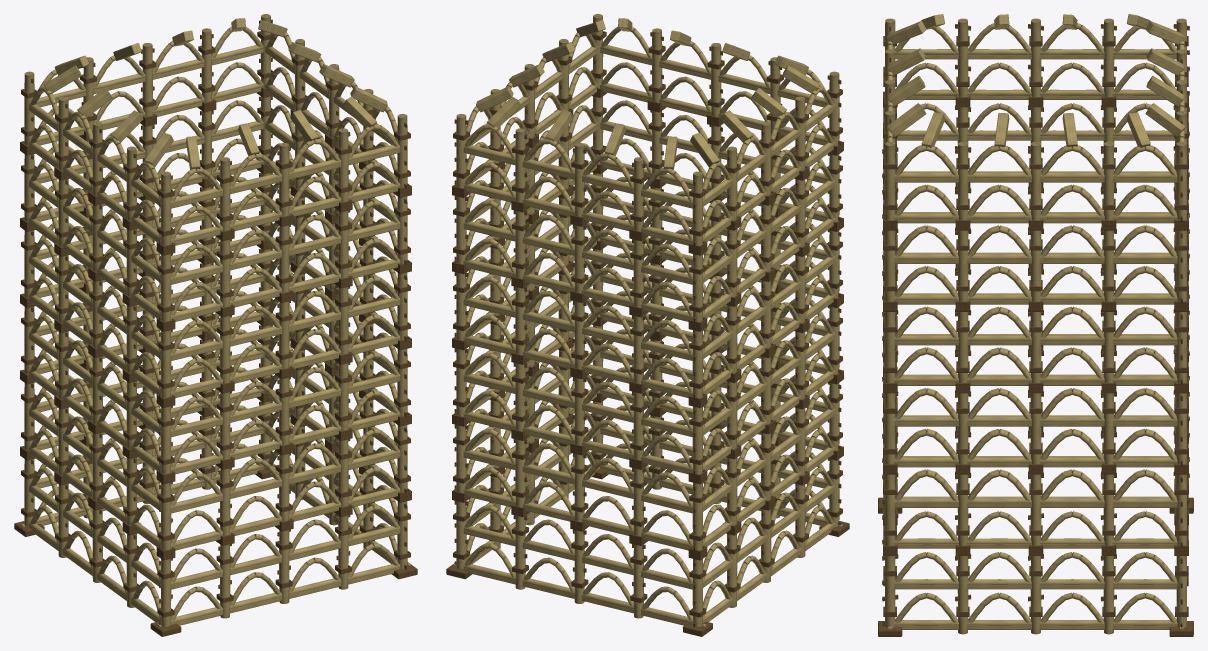
The picture shows the model from 3 angles, left to right: view 1: azimuth 30°, elevation 25°; view 2: azimuth 150°, elevation 25°; view 3: azimuth 270°, elevation 25°; orthographic projection. The views are drawn at different scales.
Parts seen in each view (by area): view 1: Tier 5 side 0 post 2, Tier 5 side 0 post 3, Tier 0 side 0 post 2, Tier 5 side 0 post 0, Tier 5 side 0 post 1, Tier 0 side 0 post 3, Tier 5 side 2 post 2, Tier 5 side 2 post 1, Tier 0 side 0 post 1, Tier 5 side 1 post 0, Tier 3 side 0 post 2, Tier 4 side 0 post 2 (+23 smaller); view 2: Tier 5 side 2 post 2, Tier 5 side 2 post 1, Tier 5 side 2 post 0, Tier 0 side 2 post 2, Tier 5 side 2 post 3, Tier 0 side 2 post 1, Tier 5 side 0 post 2, Tier 5 side 0 post 3, Tier 5 side 3 post 0, Tier 0 side 2 post 3, Tier 2 side 2 post 1, Tier 4 side 2 post 2 (+24 smaller); view 3: Tier 5 side 1 post 0, Tier 5 side 1 post 2, Tier 5 side 1 post 3, Tier 5 side 1 post 1, Tier 5 side 2 post 0, Tier 5 side 3 post 2, Tier 5 side 3 post 1, Tier 0 side 1 post 2, Tier 5 side 3 post 3, Tier 0 side 1 post 3, Tier 0 side 1 post 1, Tier 4 side 1 post 0 (+31 smaller).
Boxes of the visible parts, <box> form: Tier 5 side 0 post 2: <box>279,142,289,216</box>; Tier 5 side 0 post 3: <box>338,128,348,202</box>; Tier 0 side 0 post 2: <box>279,530,289,603</box>; Tier 5 side 0 post 0: <box>161,171,171,245</box>; Tier 5 side 0 post 1: <box>220,157,230,231</box>; Tier 0 side 0 post 3: <box>338,515,348,589</box>; Tier 5 side 2 post 2: <box>142,43,152,116</box>; Tier 5 side 2 post 1: <box>201,28,211,102</box>; Tier 0 side 0 post 1: <box>220,544,230,618</box>; Tier 5 side 1 post 0: <box>397,114,407,188</box>; Tier 3 side 0 post 2: <box>279,301,289,369</box>; Tier 4 side 0 post 2: <box>279,225,289,293</box>; Tier 5 side 2 post 2: <box>574,142,584,216</box>; Tier 5 side 2 post 1: <box>515,128,525,202</box>; Tier 5 side 2 post 0: <box>456,114,466,188</box>; Tier 0 side 2 post 2: <box>574,530,584,603</box>; Tier 5 side 2 post 3: <box>633,157,643,231</box>; Tier 0 side 2 post 1: <box>515,515,525,589</box>; Tier 5 side 0 post 2: <box>711,43,721,116</box>; Tier 5 side 0 post 3: <box>652,28,662,102</box>; Tier 5 side 3 post 0: <box>692,171,702,245</box>; Tier 0 side 2 post 3: <box>633,544,643,618</box>; Tier 2 side 2 post 1: <box>515,363,525,431</box>; Tier 4 side 2 post 2: <box>574,225,584,293</box>; Tier 5 side 1 post 0: <box>885,141,895,220</box>; Tier 5 side 1 post 2: <box>1030,141,1041,220</box>; Tier 5 side 1 post 3: <box>1103,141,1114,220</box>; Tier 5 side 1 post 1: <box>957,141,968,220</box>; Tier 5 side 2 post 0: <box>1176,141,1186,220</box>; Tier 5 side 3 post 2: <box>1030,18,1041,96</box>; Tier 5 side 3 post 1: <box>1103,18,1114,96</box>; Tier 0 side 1 post 2: <box>1030,556,1041,634</box>; Tier 5 side 3 post 3: <box>957,18,968,96</box>; Tier 0 side 1 post 3: <box>1103,556,1114,634</box>; Tier 0 side 1 post 1: <box>957,556,968,634</box>; Tier 4 side 1 post 0: <box>885,230,895,301</box>.
Bounding box in the file's own units: 1.95 × 3.45 × 1.95.
2 materials, 2 textured.
